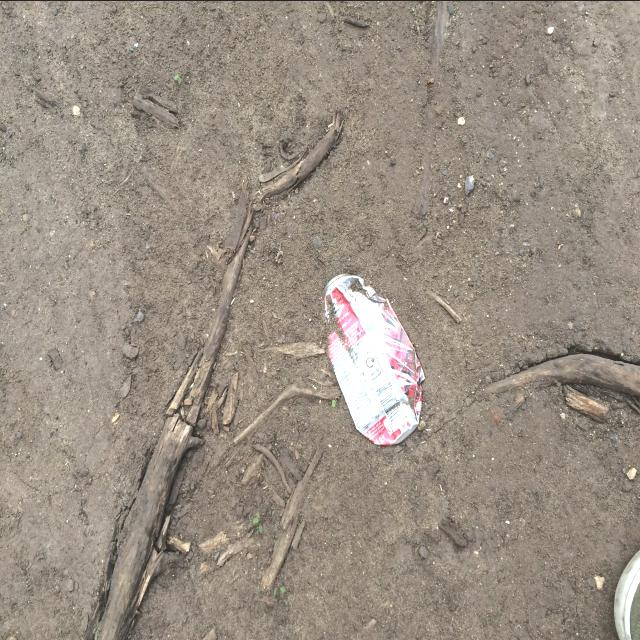Drink can: (325, 272, 425, 444)
